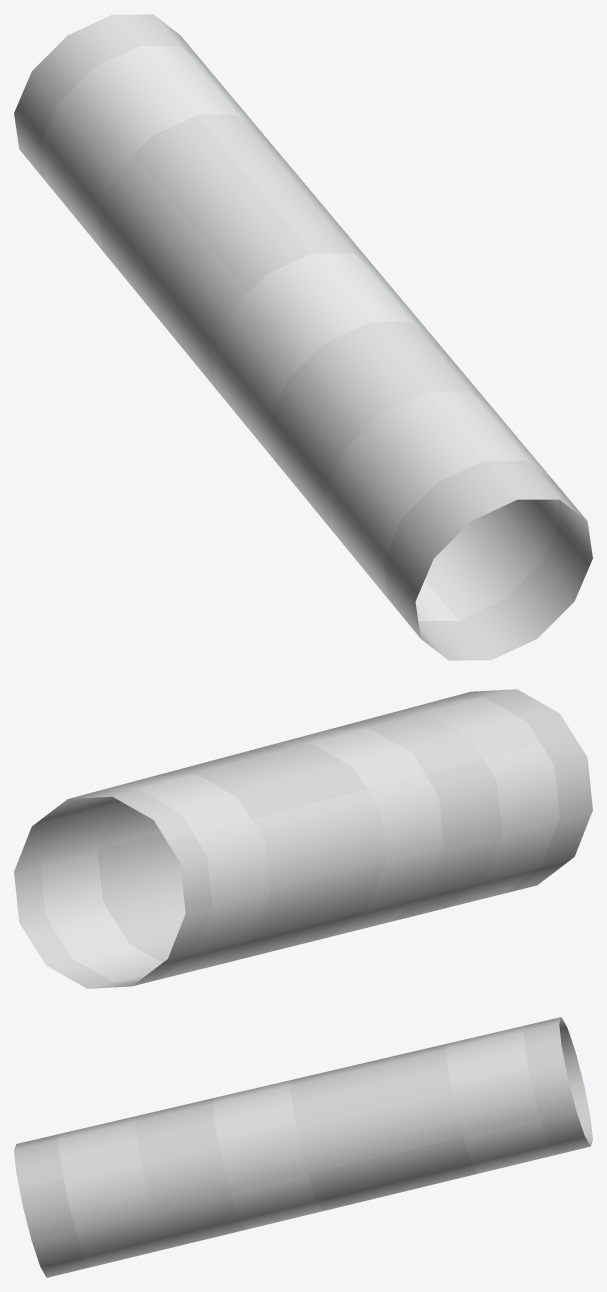
File: luminairearm_caltrans15ftstraight_c2.obj
3 renders of one model, top to bottom at view 1: azimuth 30°, elevation 25°; view 2: azimuth 150°, elevation 25°; view 3: azimuth 270°, elevation 25°, orthographic. The views are drawn at different scales.
Visible parts, largest first — view 1: luminairearm_caltrans15ftstraight_c2; view 2: luminairearm_caltrans15ftstraight_c2; view 3: luminairearm_caltrans15ftstraight_c2.
Boxes of the visible parts, box(x1,y1,x2,y2) form: luminairearm_caltrans15ftstraight_c2: box(14, 14, 592, 660); luminairearm_caltrans15ftstraight_c2: box(14, 689, 592, 988); luminairearm_caltrans15ftstraight_c2: box(14, 1017, 592, 1277).
Bounding box in the file's own units: 0.2154 × 0.4274 × 0.9037.
